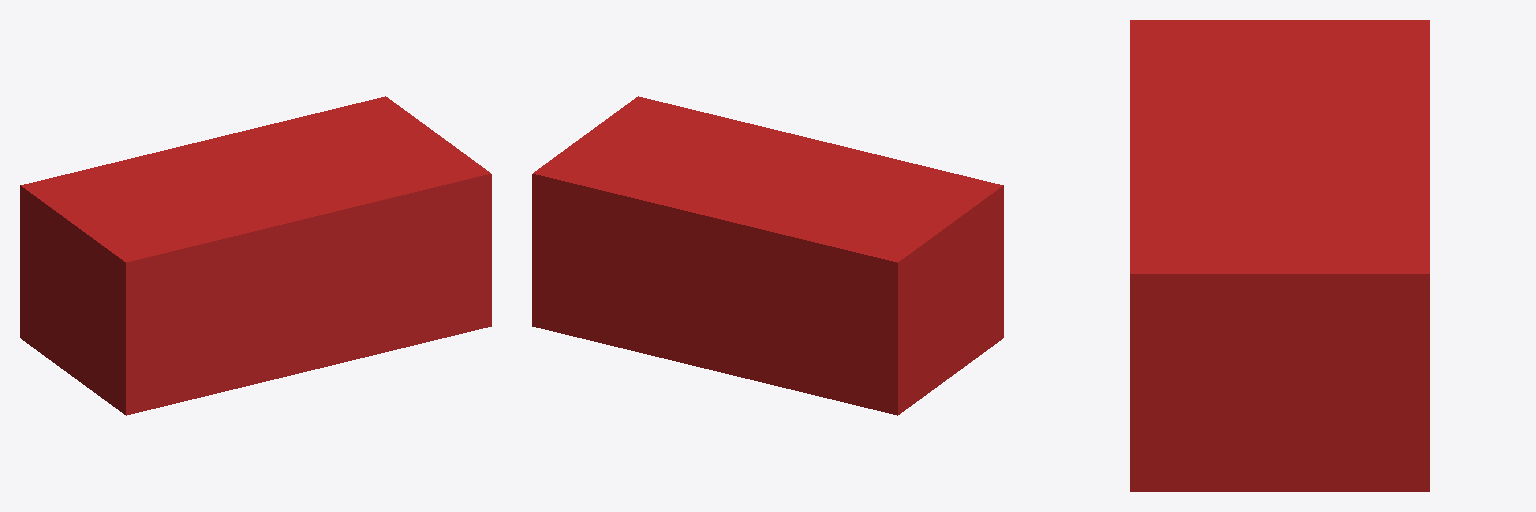
The robot description file, URDF, robot "parallelepipede_large":
<?xml version="1.0" ?>
<robot name="parallelepipede_large">
    <link name="parallelepipede_large_link">
        <inertial>
            <!-- CoM scaled 1.5× from parallelepipede: (0.05,0.02,-0.04)*1.5 -->
            <origin rpy="0 0 0" xyz="0.075 0.030 -0.055"/>

            <mass value="2.5"/>

            <!-- Solid box a=0.30, b=0.15, c=0.12, m=2.5 kg, at CoM -->
            <!-- Ixx = m*(b^2+c^2)/12 = 2.5*(0.0225+0.0144)/12 = 0.007688 -->
            <!-- Iyy = m*(a^2+c^2)/12 = 2.5*(0.09+0.0144)/12  = 0.021750 -->
            <!-- Izz = m*(a^2+b^2)/12 = 2.5*(0.09+0.0225)/12  = 0.023438 -->
            <inertia
                ixx="0.007688"
                ixy="0.002"
                ixz="-0.002"
                iyy="0.021750"
                iyz="0.005"
                izz="0.023438"/>
        </inertial>

        <visual>
            <origin rpy="0 0 0" xyz="0 0 0"/>
            <geometry>
                <box size="0.30 0.15 0.12"/>
            </geometry>
            <material name="Red">
                <color rgba="0.8 0.2 0.2 1.0"/>
            </material>
        </visual>

        <collision>
            <origin rpy="0 0 0" xyz="0 0 0"/>
            <geometry>
                <box size="0.30 0.15 0.12"/>
            </geometry>
        </collision>
    </link>
</robot>

--- Facts derived from the render (not from the file) ---
The picture shows the robot from 3 angles, left to right: view 1: azimuth 30°, elevation 25°; view 2: azimuth 150°, elevation 25°; view 3: azimuth 270°, elevation 25°; orthographic projection.
Model parallelepipede_large with 1 links and 0 joints (none), rooted at parallelepipede_large_link, posed every joint at zero.
Visible links, largest first — view 1: parallelepipede_large_link; view 2: parallelepipede_large_link; view 3: parallelepipede_large_link.
Link boxes in pixels (bbox=[...]): parallelepipede_large_link: bbox=[20, 96, 491, 415]; parallelepipede_large_link: bbox=[532, 96, 1003, 415]; parallelepipede_large_link: bbox=[1130, 20, 1429, 491].
Size in the robot's own frame: 0.3 by 0.15 by 0.12 metres.
Geometry: primitives only (box / cylinder / sphere), no mesh files.
